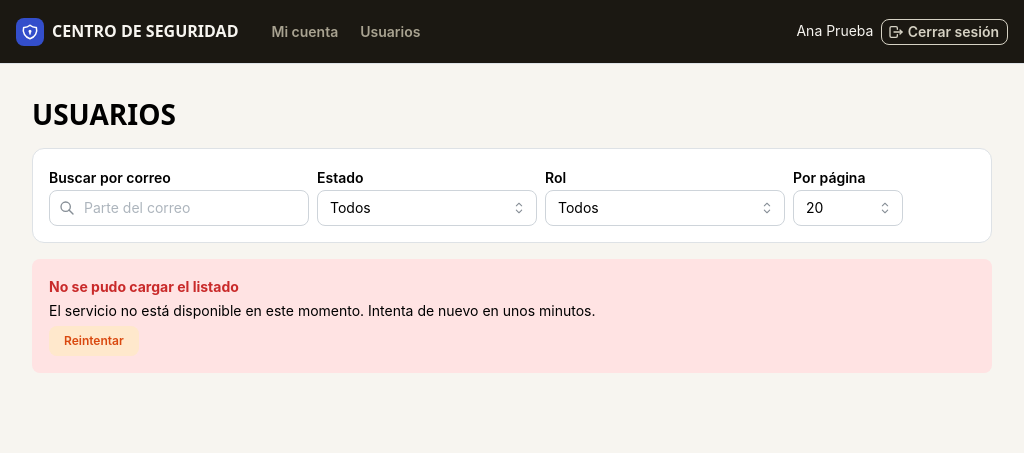
Test: FRONT-07 listado administrativo › un 403 del backend muestra sin permiso y un 503 permite reintentar
Click the button "Reintentar": {"x": 94, "y": 341} [49,326,139,356]
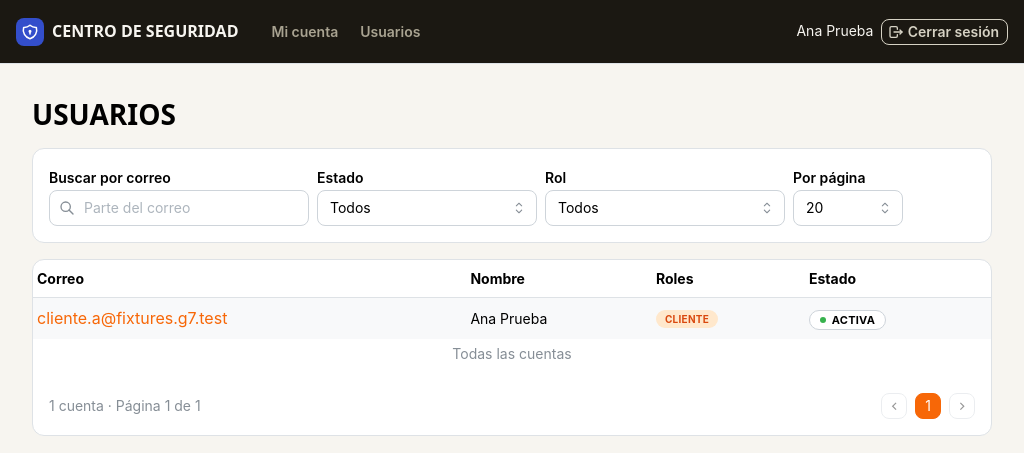
Check: the link "cliente.a@fixtures.g7.test" is shown, box [37,308,227,328]
